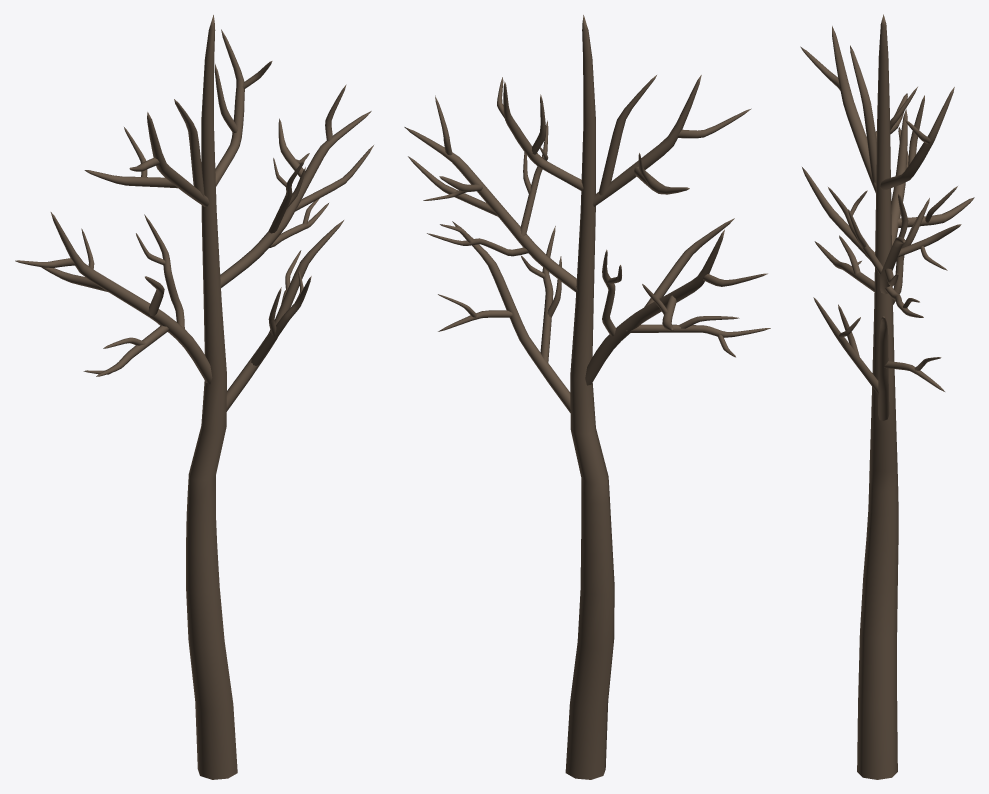
File: deadtree-1.glb
3 renders of one model, left to right at view 1: azimuth 30°, elevation 25°; view 2: azimuth 150°, elevation 25°; view 3: azimuth 270°, elevation 25°, orthographic.
Parts seen in each view (by area): view 1: DeadTree_1; view 2: DeadTree_1; view 3: DeadTree_1.
Boxes of the visible parts, x1,y1,x2,y2 form: DeadTree_1: (15,15,373,779); DeadTree_1: (404,15,770,779); DeadTree_1: (800,14,974,779).
Bounding box in the file's own units: 3.09 × 6.2 × 1.3.
